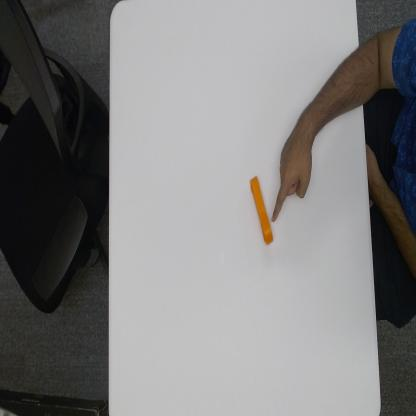Arm: (305, 34, 364, 138)
Hand: (272, 123, 313, 232)
Screwdriver: (249, 172, 275, 248)
